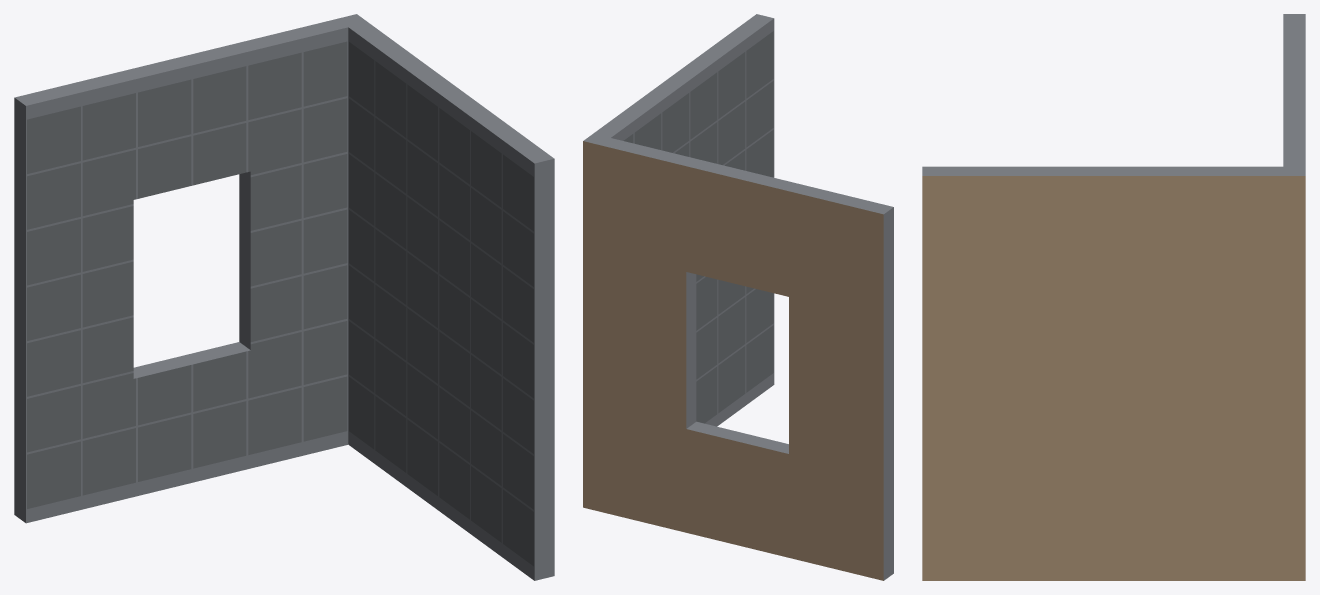
The model's file is Wall2_C7_07.fbx.
3 renders of one model, left to right at view 1: azimuth 30°, elevation 25°; view 2: azimuth 150°, elevation 25°; view 3: azimuth 270°, elevation 25°, orthographic. The views are drawn at different scales.
Visible parts, largest first — view 1: Wall2_C7_07; view 2: Wall2_C7_07; view 3: Wall2_C7_07.
Boxes of the visible parts, x1=… form: Wall2_C7_07: x1=14, y1=14, x2=554, y2=580; Wall2_C7_07: x1=583, y1=14, x2=893, y2=580; Wall2_C7_07: x1=922, y1=14, x2=1305, y2=580.
Bounding box in the file's own units: 258 × 300 × 258.
